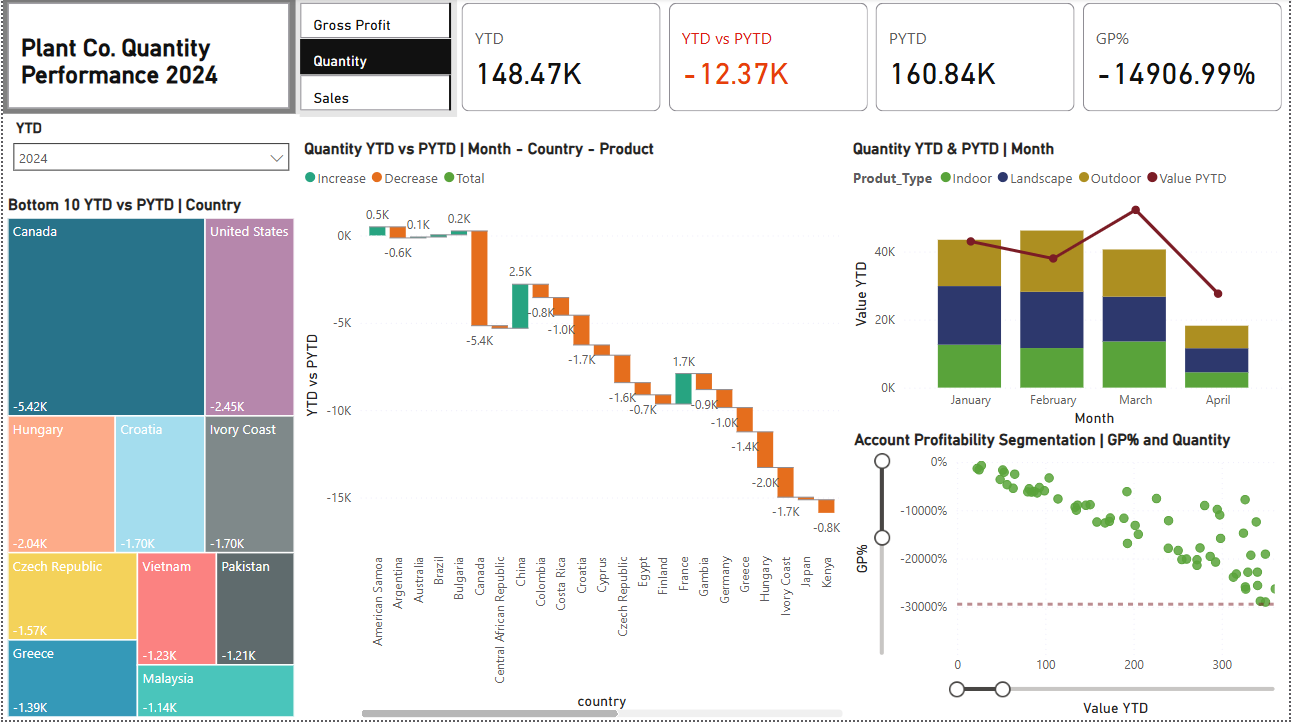

The page's visual inventory and layout, read from the dashboard file:
{"tool":"powerbi","page":{"name":"Page 1","canvas":[1280,720],"ordinal":0},"visuals":[{"type":"cardVisual","fields":{"Data":["_Measures.S_YTD","_Measures.YTD vs PYTD","_Measures.S_PYTD","_Measures.GP%"]},"box":[451.5,0,828.8,118],"z":0},{"type":"advancedSlicerVisual","fields":{"Values":["Slc_Values.Values"]},"box":[290.9,0,160.5,118],"z":1},{"type":"slicer","fields":{"Values":["Dim_Date.Date.Variation.Date Hierarchy.Year"]},"box":[0,115.3,295,81],"z":3},{"type":"treemap","title":"Bottom 10 YTD vs PYTD | Country","fields":{"Group":["Dim_Account.country"],"Values":["_Measures.YTD vs PYTD"]},"box":[0,196.2,295,524.2],"z":4},{"type":"waterfallChart","fields":{"Y":["_Measures.YTD vs PYTD"],"Category":["Dim_Date.Date.Variation.Date Hierarchy.Month","Dim_Account.country","Dim_Product.Produt_Type","Dim_Product.Product_Name"]},"box":[295,140,546.1,580.4],"z":5},{"type":"lineStackedColumnComboChart","fields":{"Y":["_Measures.S_YTD"],"Y2":["_Measures.S_PYTD"],"Category":["Dim_Date.Date.Variation.Date Hierarchy.Quarter","Dim_Date.Date.Variation.Date Hierarchy.Month"],"Series":["Dim_Product.Produt_Type"]},"box":[841.2,140,439.1,290.9],"z":6},{"type":"scatterChart","fields":{"Y":["_Measures.GP%"],"X":["_Measures.S_YTD"],"Category":["Dim_Account.Account"]},"box":[842,431,438,289],"z":7},{"type":"cardVisual","fields":{"Data":["_Measures._Report title"]},"box":[0,0,290.9,115.3],"z":8}]}

Visuals, with their boxes in screenshot pixels (x1, y1, x2, y2), scaled from the page's 1280x720 canvas onto the 1292x722 screenshot:
cardVisual - _Measures.S_YTD x _Measures.YTD vs PYTD: x1=456 y1=0 x2=1291 y2=118
advancedSlicerVisual - Slc_Values.Values: x1=294 y1=0 x2=456 y2=118
slicer - Dim_Date.Date.Variation.Date Hierarchy.Year: x1=0 y1=116 x2=298 y2=197
"Bottom 10 YTD vs PYTD | Country" treemap: x1=0 y1=197 x2=298 y2=721
waterfallChart - _Measures.YTD vs PYTD x Dim_Date.Date.Variation.Date Hierarchy.Month: x1=298 y1=140 x2=849 y2=721
lineStackedColumnComboChart - _Measures.S_YTD x _Measures.S_PYTD: x1=849 y1=140 x2=1291 y2=432
scatterChart - _Measures.GP% x _Measures.S_YTD: x1=850 y1=432 x2=1291 y2=721
cardVisual - _Measures._Report title: x1=0 y1=0 x2=294 y2=116
